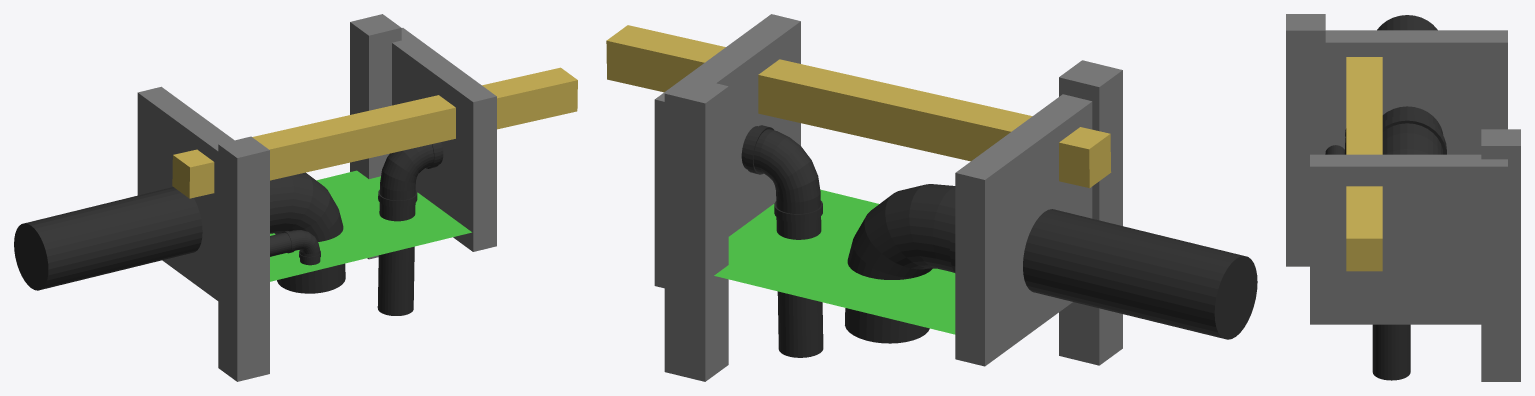
Rendered from TrenchSegBeamB.fbx.
3 renders of one model, left to right at view 1: azimuth 30°, elevation 25°; view 2: azimuth 150°, elevation 25°; view 3: azimuth 270°, elevation 25°, orthographic. The views are drawn at different scales.
Parts seen in each view (by area): view 1: Cylinder.001, Cube.004, Cube, Cube.001, Cube.002, Plane, Cylinder, Cube.003, Cylinder.002; view 2: Cylinder.001, Cube.004, Cube.002, Cube.003, Plane, Cube.001, Cylinder, Cube; view 3: Cube.001, Cube.002, Cube, Cube.004, Cube.003, Cylinder.001, Cylinder.
Boxes of the visible parts, <box> form: Cylinder.001: <box>14,172,345,293</box>; Cube.004: <box>172,67,577,198</box>; Cube: <box>218,136,269,381</box>; Cube.001: <box>392,28,496,251</box>; Cube.002: <box>137,86,234,300</box>; Plane: <box>270,170,471,281</box>; Cylinder: <box>377,142,443,315</box>; Cube.003: <box>350,14,401,259</box>; Cylinder.002: <box>270,230,320,265</box>; Cylinder.001: <box>845,184,1257,343</box>; Cube.004: <box>606,25,1111,188</box>; Cube.002: <box>955,94,1092,366</box>; Cube.003: <box>664,76,728,381</box>; Plane: <box>714,189,955,334</box>; Cube.001: <box>654,14,800,288</box>; Cylinder: <box>741,125,823,357</box>; Cube: <box>1059,60,1122,365</box>; Cube.001: <box>1310,154,1507,324</box>; Cube.002: <box>1325,30,1507,154</box>; Cube: <box>1286,14,1325,266</box>; Cube.004: <box>1346,57,1382,271</box>; Cube.003: <box>1481,129,1520,381</box>; Cylinder.001: <box>1377,15,1446,154</box>; Cylinder: <box>1372,324,1410,380</box>.
Size of the model in its own units: 1851 by 814 by 690.
